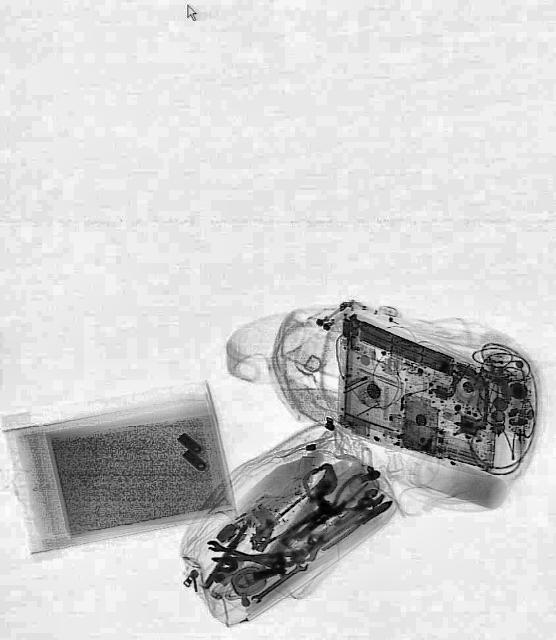Pliers: (309, 468, 381, 534)
Wrench: (247, 556, 309, 606), (205, 539, 281, 573)
